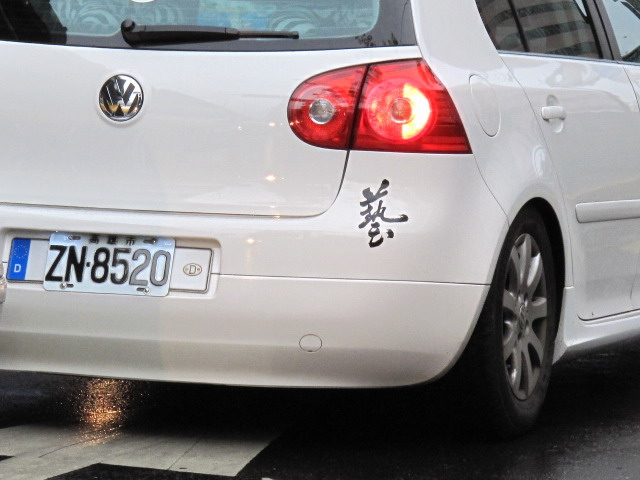plate: (44, 226, 176, 300)
